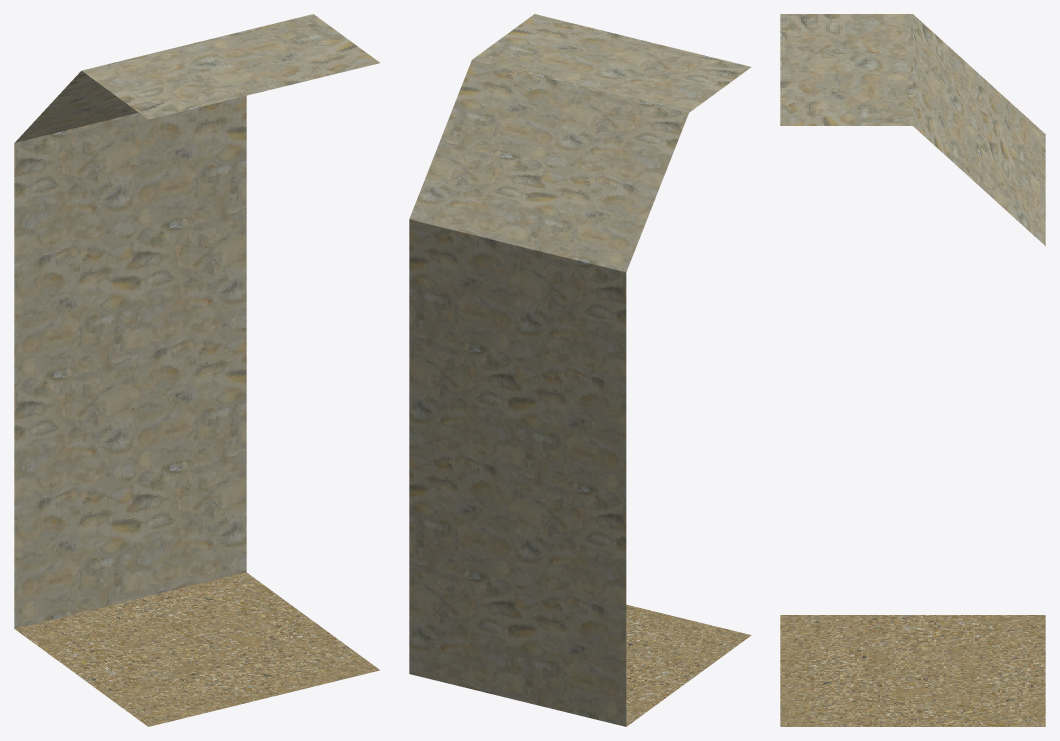
Rendered from wall2.glb.
The picture shows the model from 3 angles, left to right: view 1: azimuth 30°, elevation 25°; view 2: azimuth 150°, elevation 25°; view 3: azimuth 270°, elevation 25°; orthographic projection. The views are drawn at different scales.
Visible parts, largest first — view 1: wall1-col; view 2: wall1-col; view 3: wall1-col.
Boxes of the visible parts, box(x1,y1,x2,y2) form: wall1-col: box(14, 14, 379, 726); wall1-col: box(409, 14, 751, 726); wall1-col: box(780, 14, 1045, 726).
Size of the model in its own units: 1 by 2.5 by 1.
Materials: 2 (2 with a texture image).
